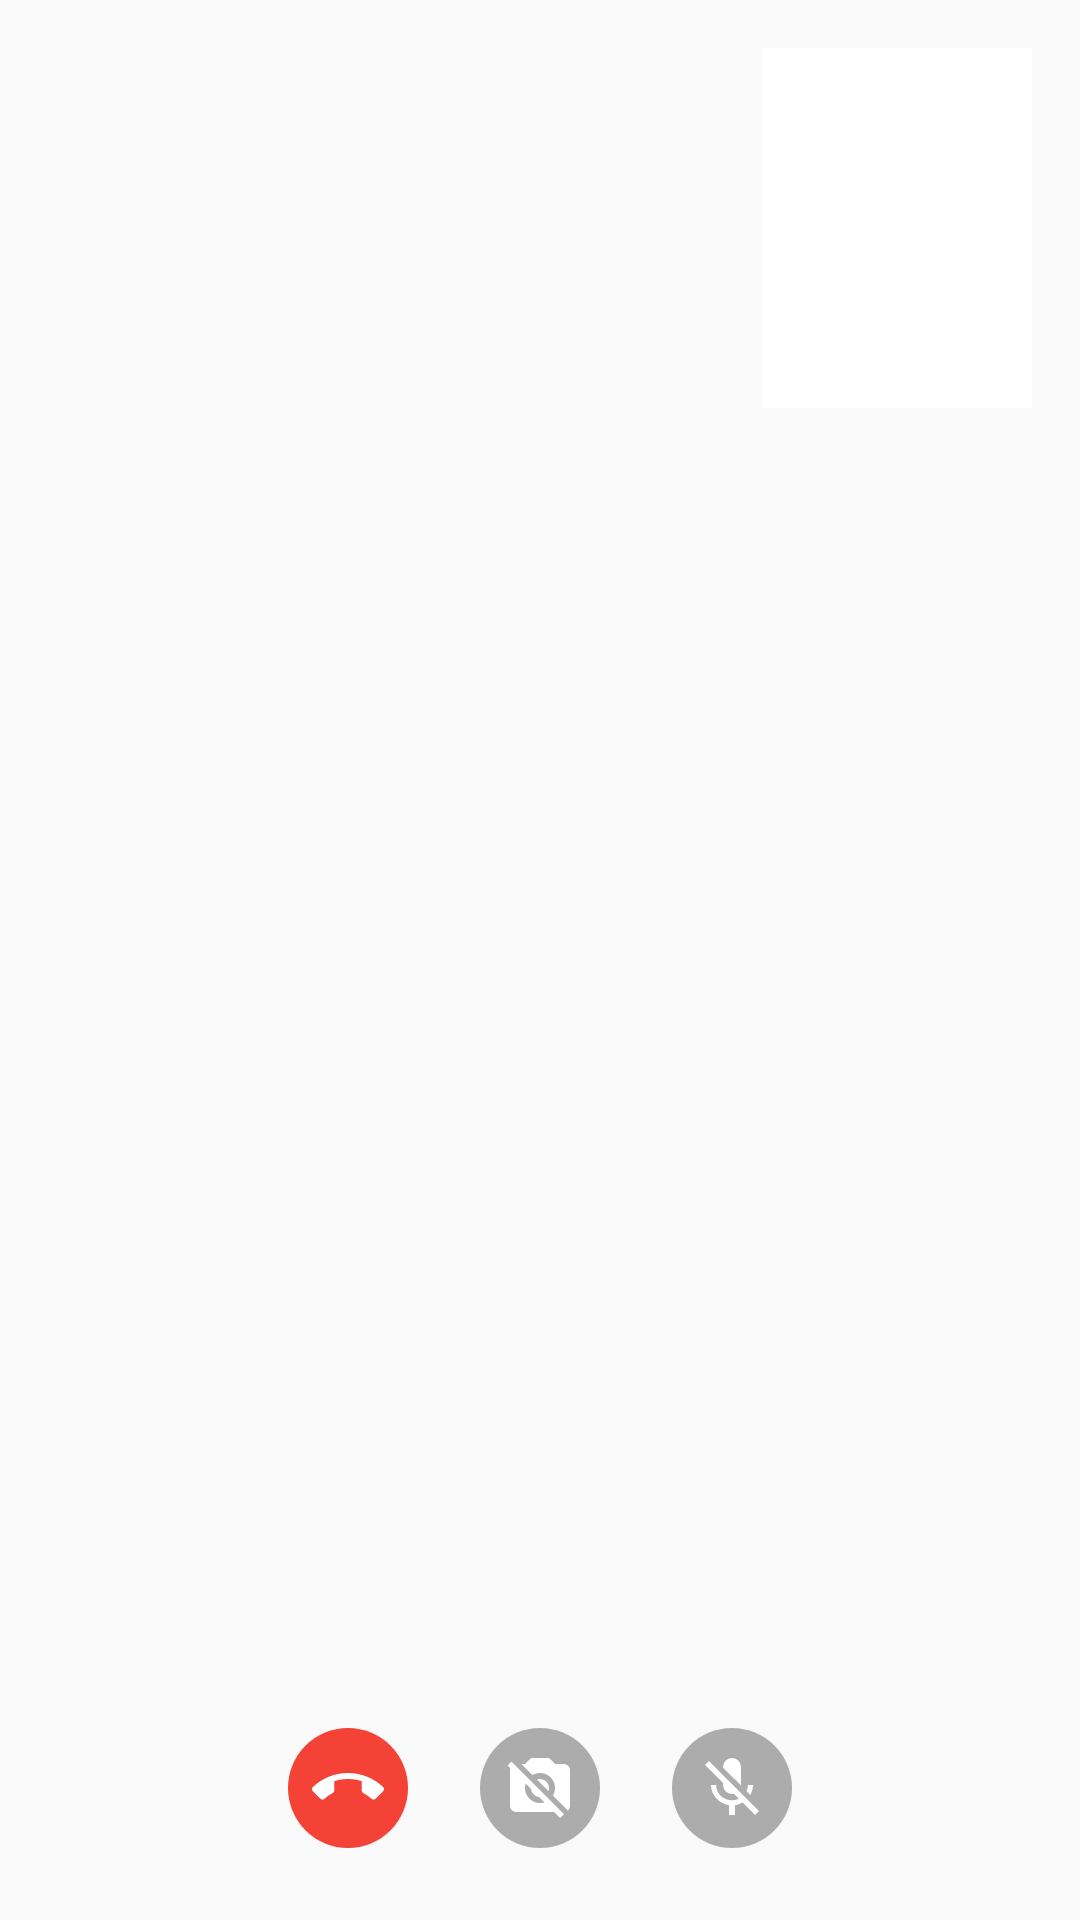

Icons on this 1080px×1920px Android screen, each with its box as (x1, y1, x2, y2):
camera off: (480, 1728, 600, 1848)
hang up: (288, 1728, 408, 1848)
micro off: (672, 1728, 792, 1848)
